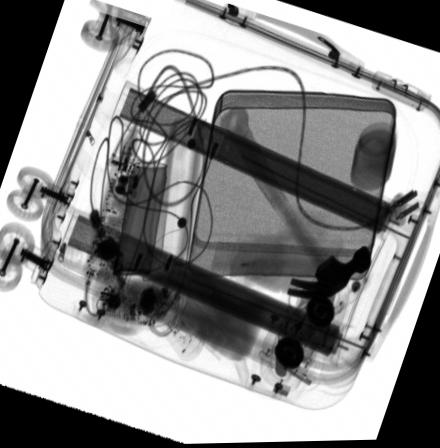Hammer: (219, 106, 371, 301)
